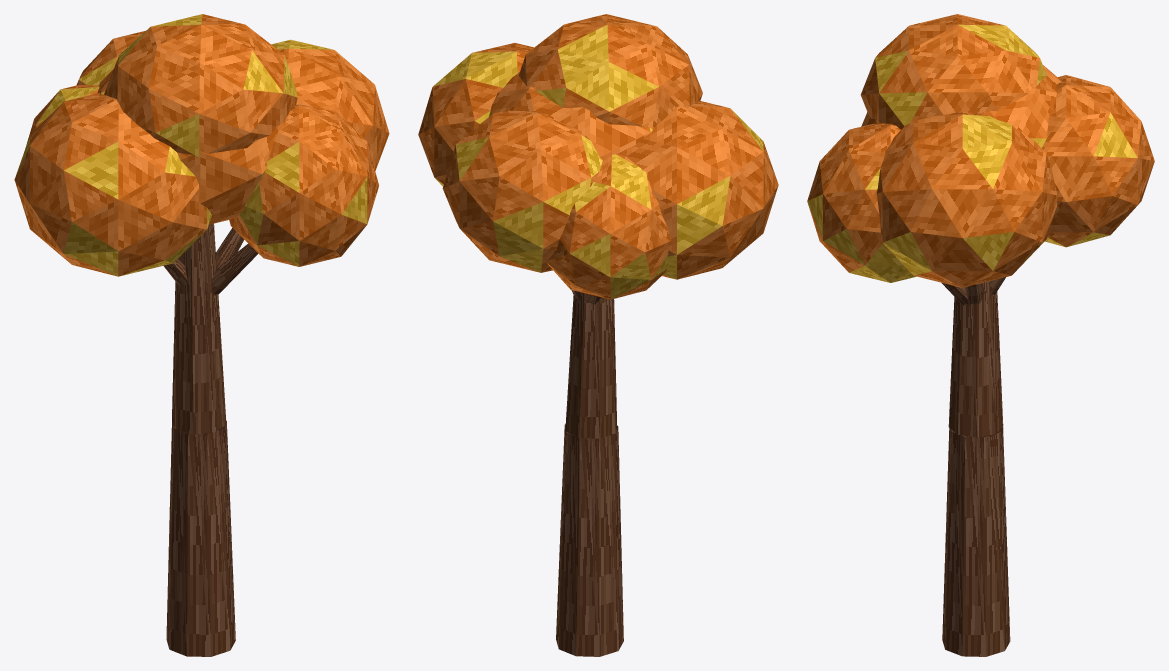
File: 02_roble_otonal.glb
3 renders of one model, left to right at view 1: azimuth 30°, elevation 25°; view 2: azimuth 150°, elevation 25°; view 3: azimuth 270°, elevation 25°, orthographic. The views are drawn at different scales.
Parts seen in each view (by area): view 1: world; view 2: world; view 3: world.
Boxes of the visible parts, x1,y1,x2,y2 form: world: (14, 14, 389, 656); world: (418, 14, 778, 656); world: (807, 14, 1154, 656).
Bounding box in the file's own units: 24.59 × 43 × 22.05.
1 material, 1 textured.
